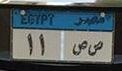1: (38, 34, 48, 56), (26, 33, 34, 56)
saad: (71, 39, 88, 57), (88, 41, 103, 56)
